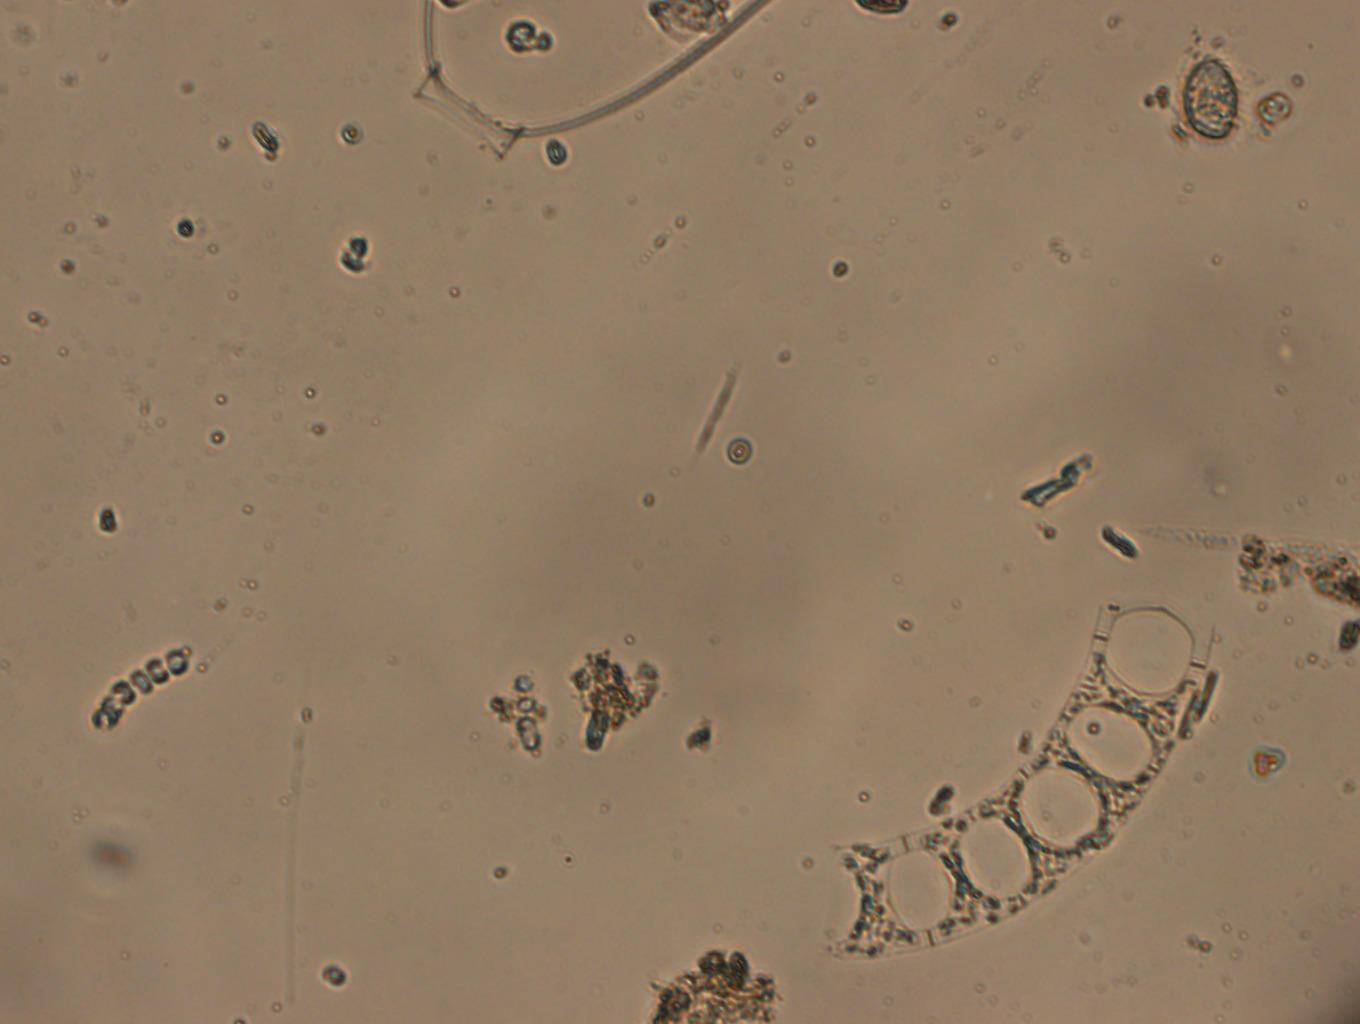chaetoceros: (412, 1, 770, 161)
eucampia: (838, 602, 1218, 964)
skeletonema: (94, 644, 191, 731)
